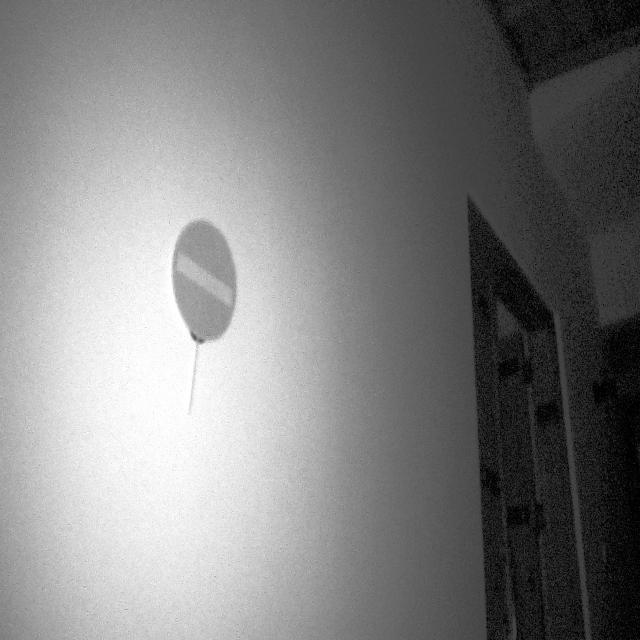Sign: (171, 217, 239, 345)
